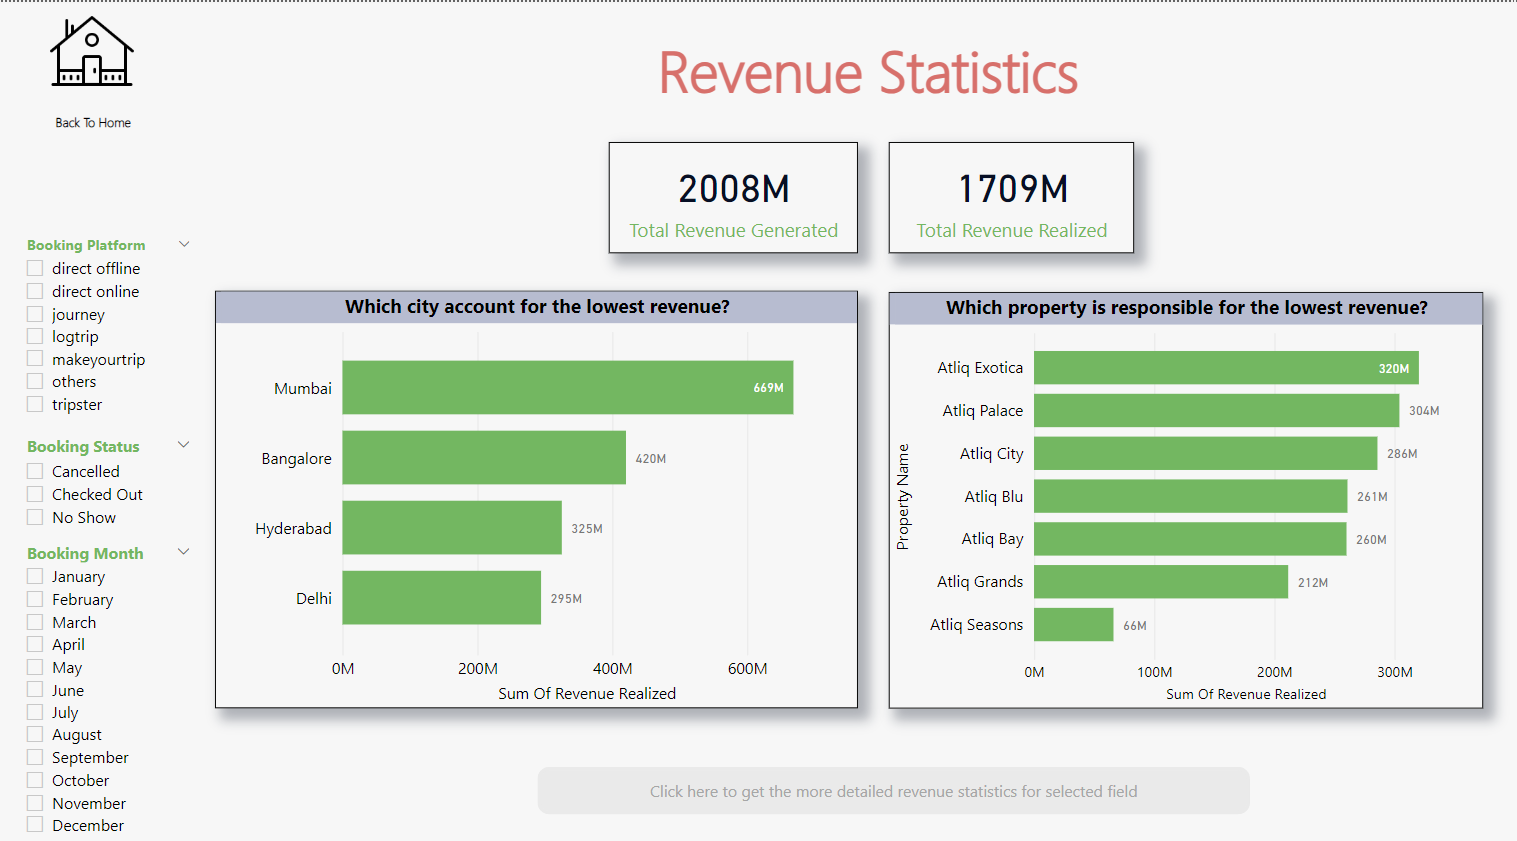

The page's visual inventory and layout, read from the dashboard file:
{"tool":"powerbi","page":{"name":"Revenue Stats Main","canvas":[1280,720],"ordinal":1},"visuals":[{"type":"barChart","title":"Which city account for the lowest revenue?","fields":{"Category":["dim_hotels.city"],"Y":["Sum(fact_bookings.revenue_realized)"]},"box":[180.8,243.3,540.6,351.2],"z":0},{"type":"clusteredBarChart","title":"Which property is responsible for the lowest revenue?","fields":{"Category":["dim_hotels.property_name"],"Y":["Sum(fact_bookings.revenue_realized)"]},"box":[747.9,244.3,499.9,350.3],"z":1000},{"type":"card","fields":{"Values":["fact_bookings.Total_revenue_realised"]},"box":[747.9,117.4,206.4,93.7],"z":2000},{"type":"card","fields":{"Values":["fact_bookings.Total_revenue_generated"]},"box":[512.2,117.4,209.2,93.7],"z":3000},{"type":"textbox","box":[395.7,18.9,670.3,73.8],"z":4000},{"type":"image","box":[27.5,0,102.2,85.2],"z":5000},{"type":"textbox","box":[27.5,85.2,102.2,32.2],"z":6000},{"type":"actionButton","box":[451.6,643.8,599.3,39.8],"z":7000},{"type":"slicer","fields":{"Values":["fact_bookings.booking_platform"]},"box":[9.6,191.8,162.9,169.9],"z":8000},{"type":"slicer","fields":{"Values":["fact_bookings.booking_status"]},"box":[9.6,360,162.9,95.5],"z":9000},{"type":"slicer","fields":{"Values":["fact_bookings.booking_date.Variation.Date Hierarchy.Month"]},"box":[9.6,449.3,162.9,270.7],"z":10000}]}

Visuals, with their boxes on the page's 1280x720 design canvas (x1, y1, x2, y2). These are canvas units, not pixel positions in the 1517x841 screenshot, which may show the page scaled, cropped or inside an application window:
"Which city account for the lowest revenue?" barChart: 181,243,721,594
"Which property is responsible for the lowest revenue?" clusteredBarChart: 748,244,1248,595
card - fact_bookings.Total_revenue_realised: 748,117,954,211
card - fact_bookings.Total_revenue_generated: 512,117,721,211
textbox: 396,19,1066,93
image: 28,0,130,85
textbox: 28,85,130,117
actionButton: 452,644,1051,684
slicer - fact_bookings.booking_platform: 10,192,172,362
slicer - fact_bookings.booking_status: 10,360,172,456
slicer - fact_bookings.booking_date.Variation.Date Hierarchy.Month: 10,449,172,720
